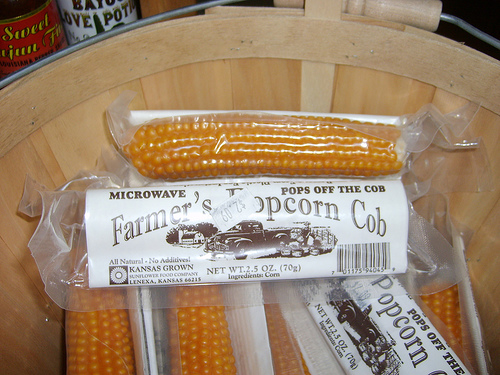corn: (120, 111, 405, 180), (63, 252, 135, 374), (165, 282, 238, 373), (413, 272, 474, 371), (262, 303, 309, 374)
